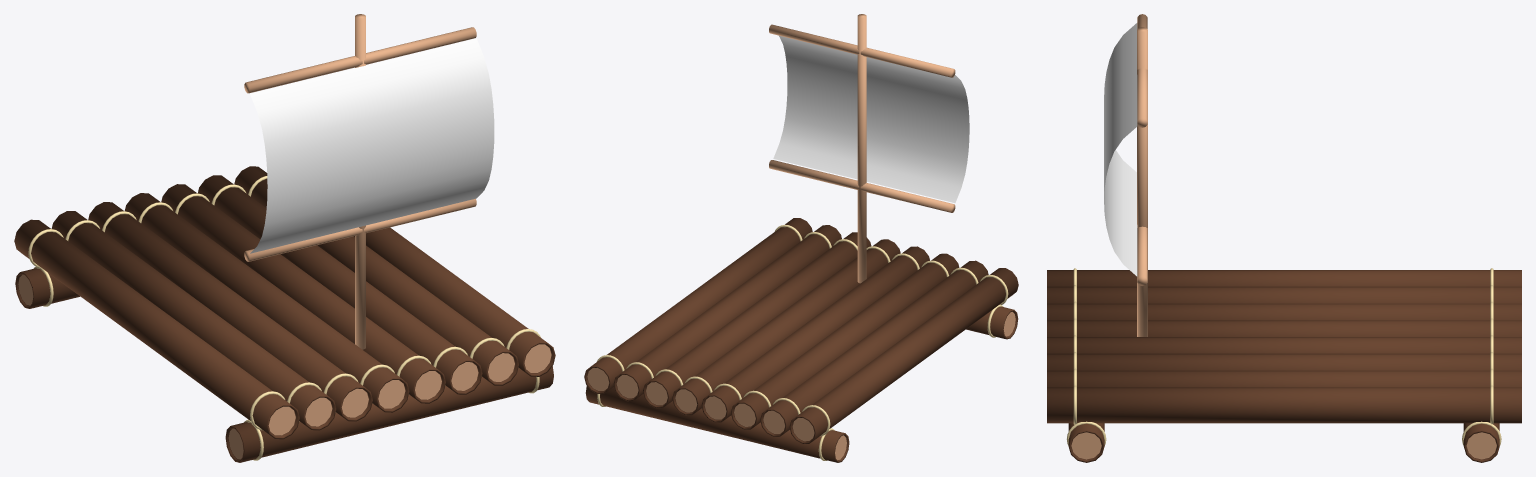
The model's file is raft copy.gltf.
The picture shows the model from 3 angles, left to right: view 1: azimuth 30°, elevation 25°; view 2: azimuth 150°, elevation 25°; view 3: azimuth 270°, elevation 25°; orthographic projection. The views are drawn at different scales.
Parts seen in each view (by area): view 1: raft, Plane, Cylinder.001, Cylinder.005, Cylinder.004, Cylinder.002; view 2: raft, Plane, Cylinder.001, Cylinder.002, Cylinder.004, Cylinder.005; view 3: raft, Plane, Cylinder.001, Cylinder.002, Cylinder.005, Cylinder.004.
Boxes of the visible parts, box(x1,y1,x2,y2) form: raft: box(14, 166, 555, 439); Plane: box(250, 38, 494, 253); Cylinder.001: box(15, 266, 553, 462); Cylinder.005: box(244, 27, 476, 93); Cylinder.004: box(244, 198, 476, 261); Cylinder.002: box(355, 14, 365, 349); raft: box(584, 218, 1018, 443); Plane: box(773, 35, 969, 202); Cylinder.001: box(585, 304, 1018, 462); Cylinder.002: box(857, 14, 866, 283); Cylinder.004: box(769, 160, 955, 212); Cylinder.005: box(769, 24, 955, 77); raft: box(1047, 268, 1521, 424); Plane: box(1104, 23, 1137, 276); Cylinder.001: box(1066, 421, 1501, 462); Cylinder.002: box(1137, 27, 1147, 336); Cylinder.005: box(1137, 14, 1147, 127); Cylinder.004: box(1137, 226, 1147, 285).
Bounding box in the file's own units: 2.73 × 3.26 × 3.86.
